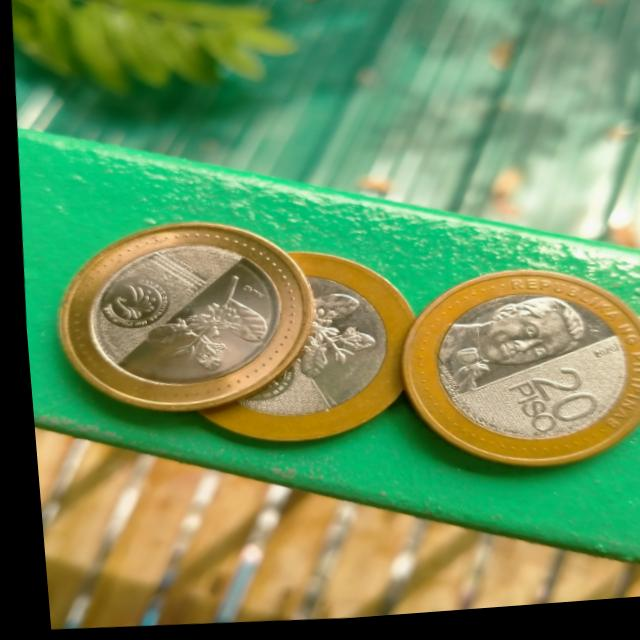20_New_Back: (135, 270, 272, 384)
20_New_Front: (470, 366, 601, 450)
